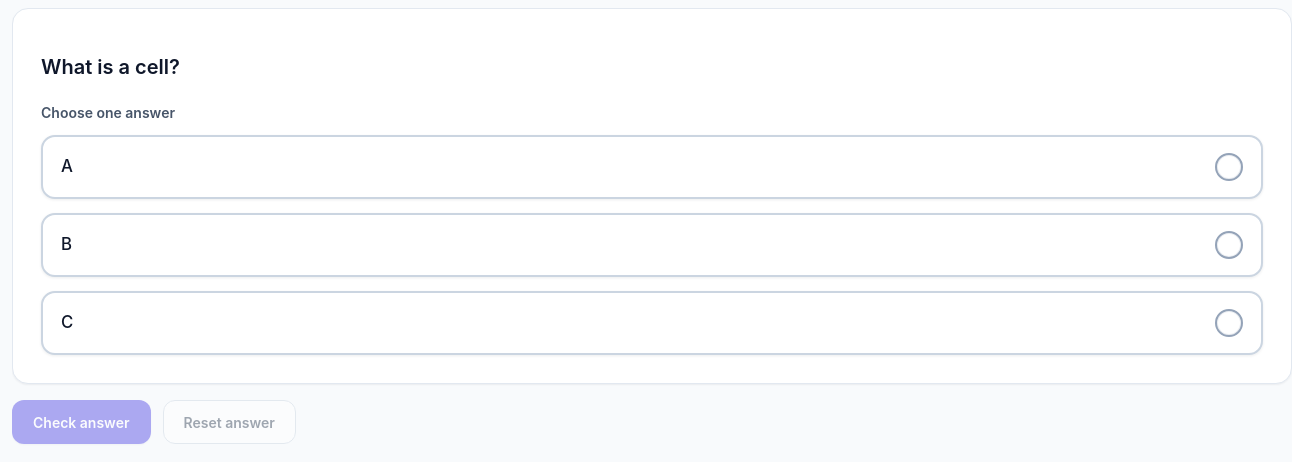
Test case: PracticeRunner attempt payload › Check answer disabled before selection and enabled after
Expected: the button with test id "practice-check-answer" is disabled, [12, 400, 150, 444]
Click the radio button "A": point(67, 166) [41, 135, 1263, 199]
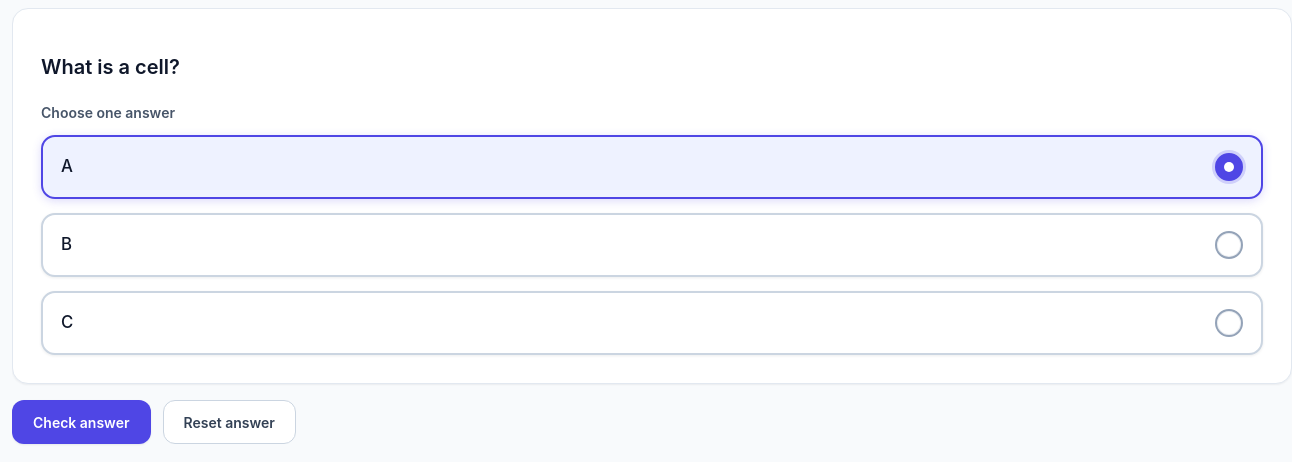
Expected: the button with test id "practice-check-answer" is enabled, [12, 400, 150, 444]
